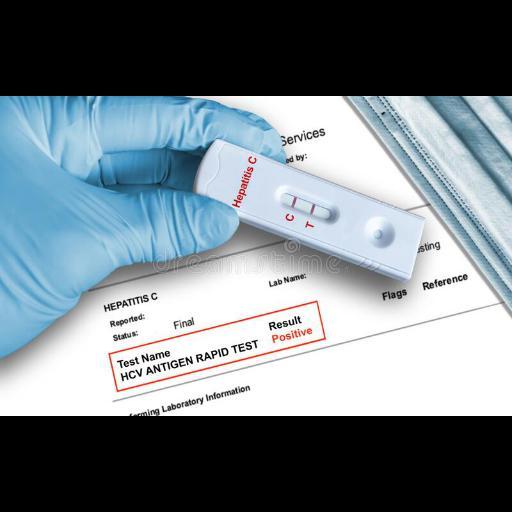Pos: (194, 140, 426, 276)
